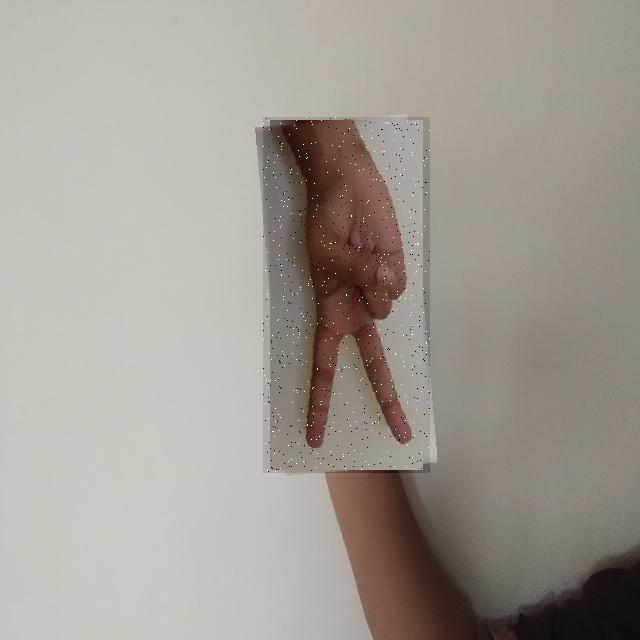No: (263, 117, 430, 473)
